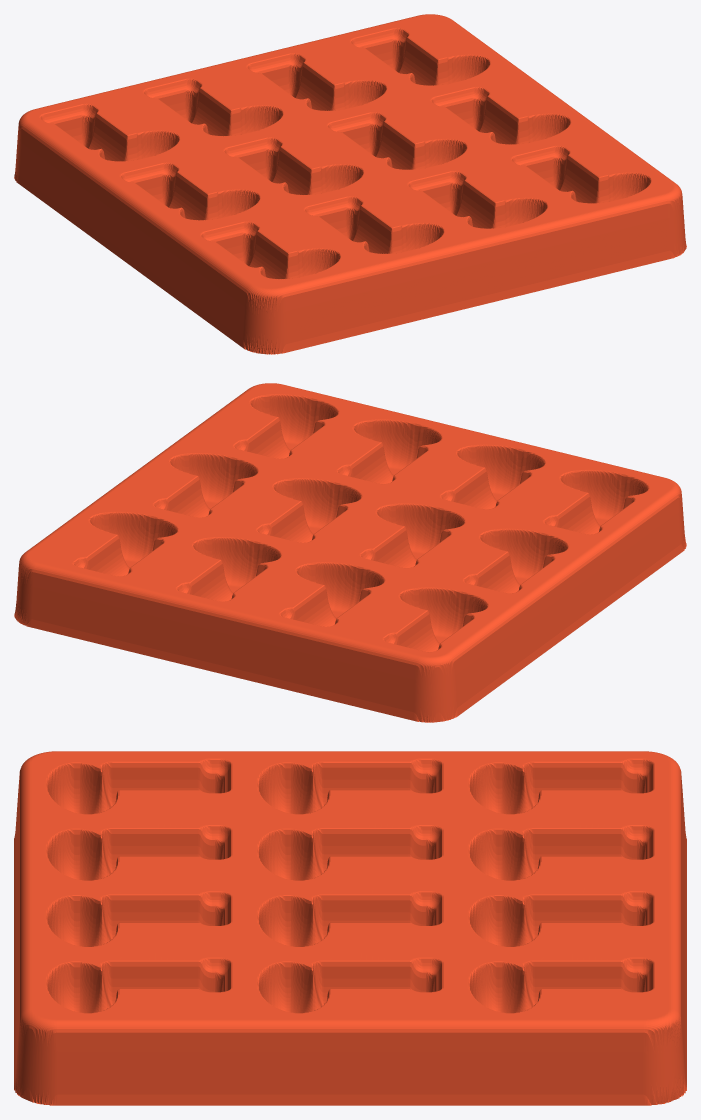
Rendered from mold.glb.
3 views of the same model, one above another, from view 1: azimuth 30°, elevation 25°; view 2: azimuth 150°, elevation 25°; view 3: azimuth 270°, elevation 25° (orthographic). The views are drawn at different scales.
Visible parts, largest first — view 1: geometry_0; view 2: geometry_0; view 3: geometry_0.
Boxes of the visible parts, bbox=[...] form: geometry_0: bbox=[14, 14, 686, 354]; geometry_0: bbox=[14, 383, 686, 722]; geometry_0: bbox=[14, 751, 686, 1105].
Size of the model in its own units: 0.1397 by 0.0182 by 0.141.
